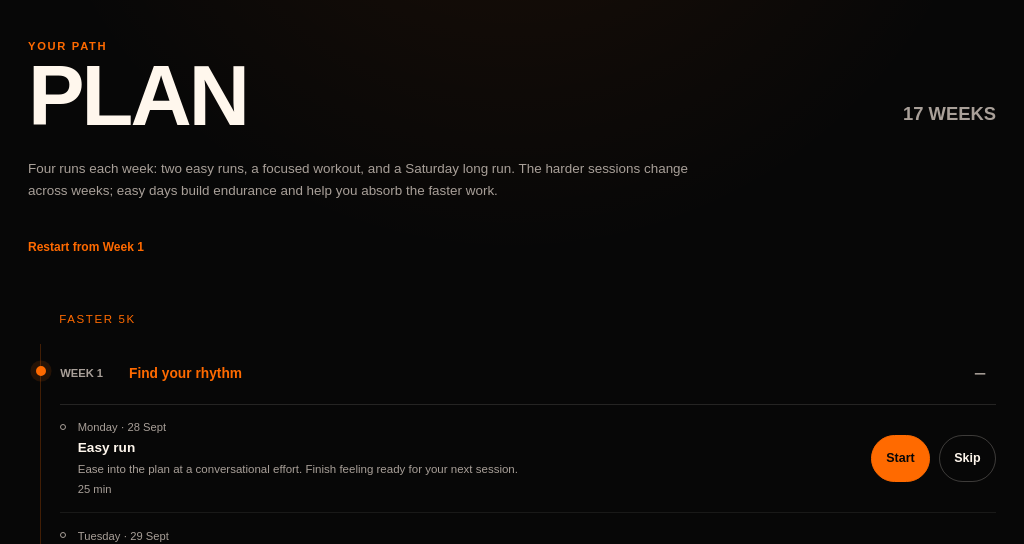
PlanPage › restarts mid-week and reports past dates
Click the button "Restart from Week 1". click: (86, 247)
box: left=28, top=225, right=144, bottom=269
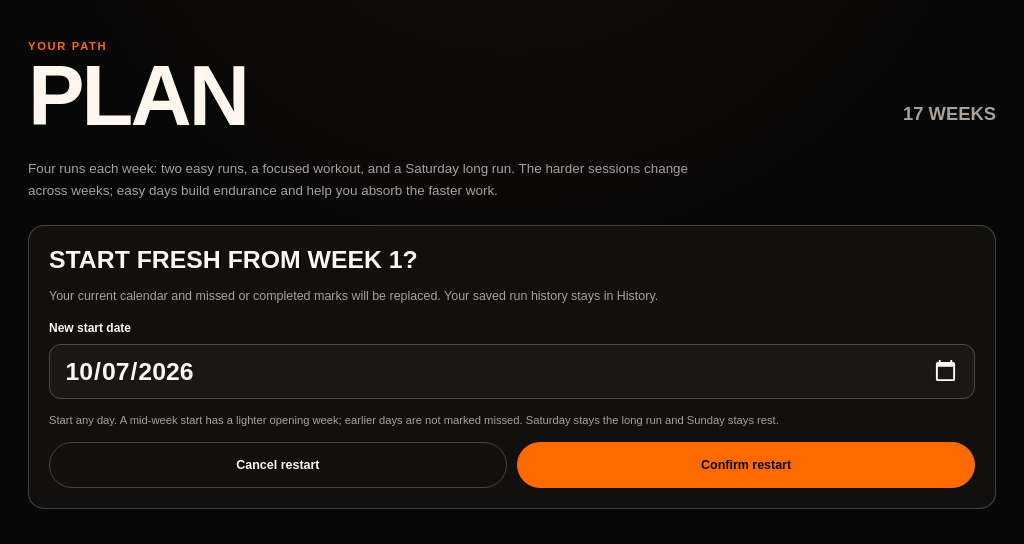
Type "2026-10-05" into the date field labelled "New start date". click: (512, 372)
box: left=49, top=344, right=975, bottom=399
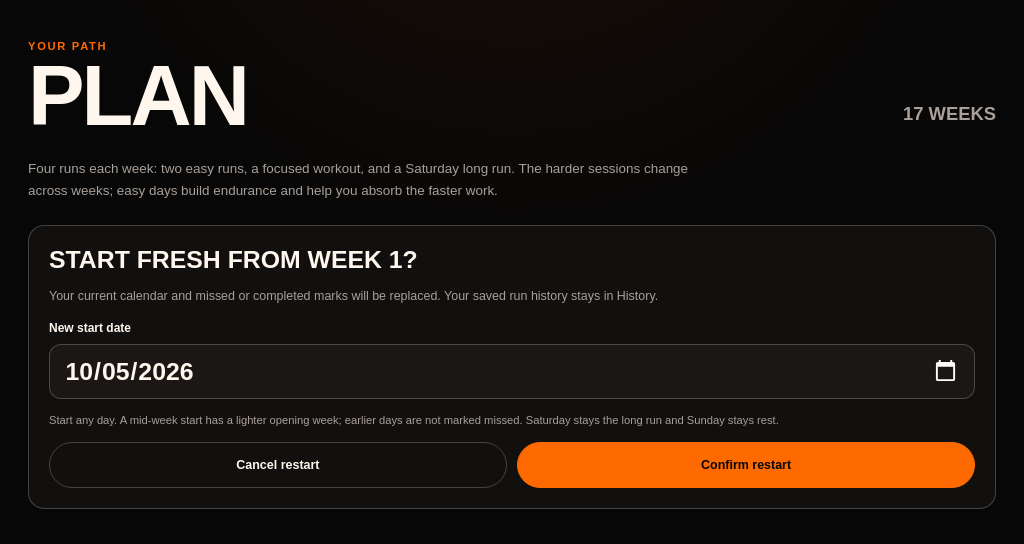
Click the button "Confirm restart". click: (746, 465)
box: left=517, top=442, right=975, bottom=488
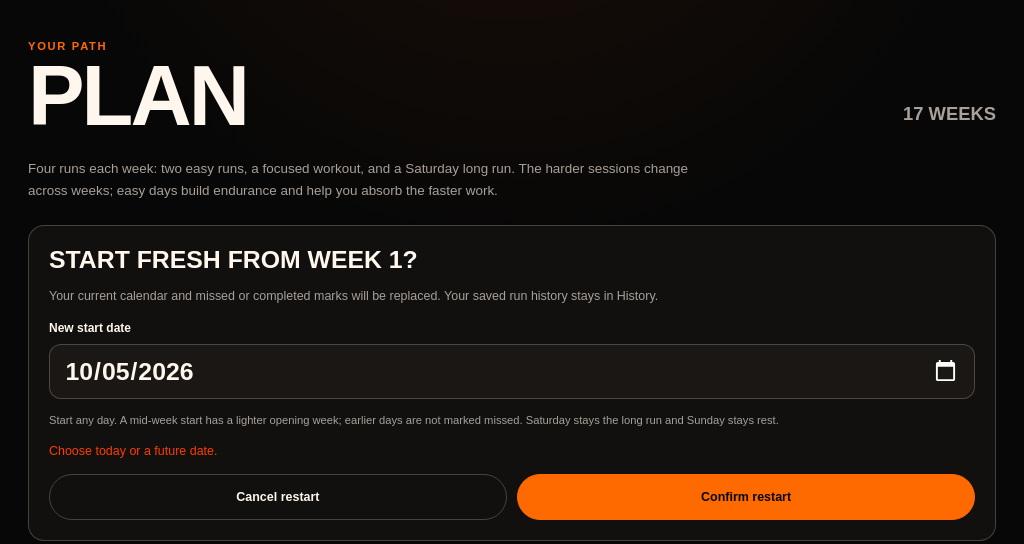
Result: the message shows "today or a future date" at left=49, top=444, right=218, bottom=458
Type "2026-10-07" into the date field labelled "New start date". click: (512, 372)
box: left=49, top=344, right=975, bottom=399
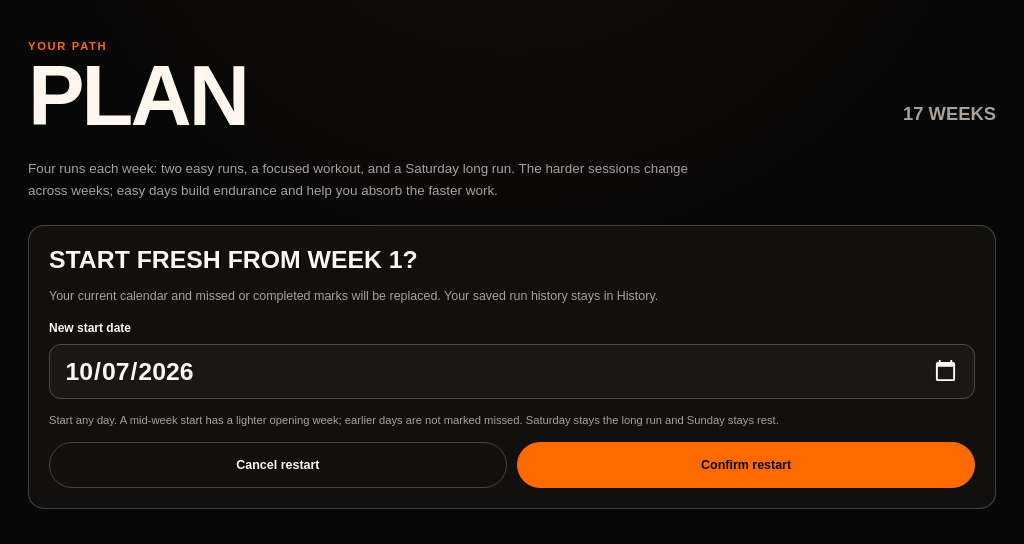
Click the button "Confirm restart". click: (746, 465)
box: left=517, top=442, right=975, bottom=488
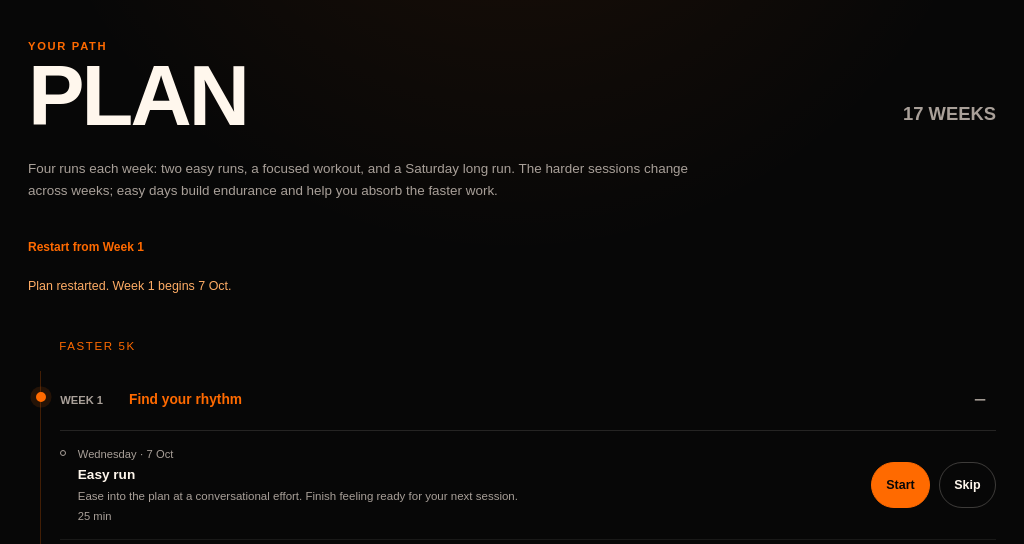
Result: the message shows "Week 1 begins 7 Oct" at left=28, top=279, right=232, bottom=293
Result: the list item "Wednesday · 7 Oct" shows "Easy run" at left=78, top=467, right=135, bottom=482
